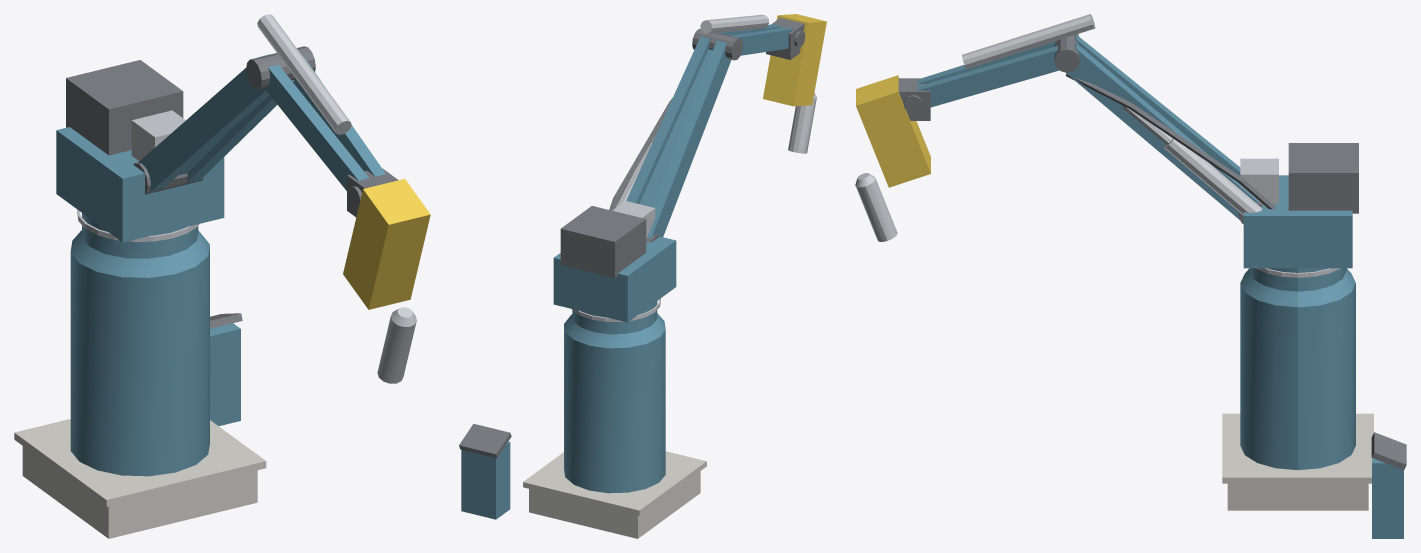
The model's file is ore-processing-and-haulage-plant-rock-breaker-boom-30a497e0.glb.
3 renders of one model, left to right at view 1: azimuth 30°, elevation 25°; view 2: azimuth 150°, elevation 25°; view 3: azimuth 270°, elevation 25°, orthographic. The views are drawn at different scales.
Visible parts, largest first — view 1: rock-breaker-boom, slew (×3), hammer (×3), boom (×2), stick (×2); view 2: rock-breaker-boom, slew (×3), boom (×2), hammer (×3), stick (×2); view 3: rock-breaker-boom, slew (×3), boom (×3), hammer (×3), stick (×2).
Part boxes in pixels (left/top/right/bottom): rock-breaker-boom: left=14, top=209, right=266, bottom=538; slew (×3): left=56, top=60, right=224, bottom=242; hammer (×3): left=343, top=168, right=430, bottom=383; boom (×2): left=133, top=46, right=315, bottom=194; stick (×2): left=257, top=14, right=385, bottom=190; rock-breaker-boom: left=459, top=97, right=706, bottom=538; slew (×3): left=553, top=201, right=676, bottom=322; boom (×2): left=626, top=29, right=742, bottom=242; hammer (×3): left=763, top=14, right=826, bottom=153; stick (×2): left=700, top=14, right=793, bottom=55; rock-breaker-boom: left=1066, top=74, right=1406, bottom=538; slew (×3): left=1240, top=143, right=1358, bottom=268; boom (×3): left=1054, top=34, right=1262, bottom=224; hammer (×3): left=855, top=75, right=930, bottom=241; stick (×2): left=917, top=14, right=1095, bottom=107.
Size of the model in its own units: 3.36 by 8.01 by 8.6.
